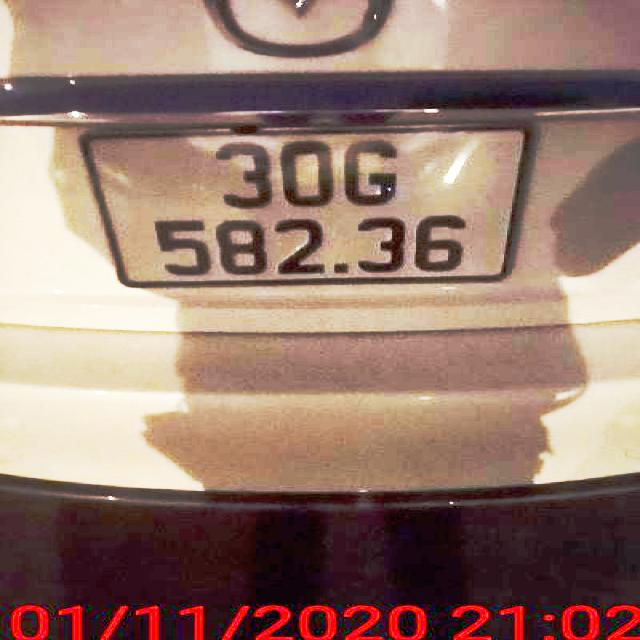license_plate: (85, 131, 531, 287)
